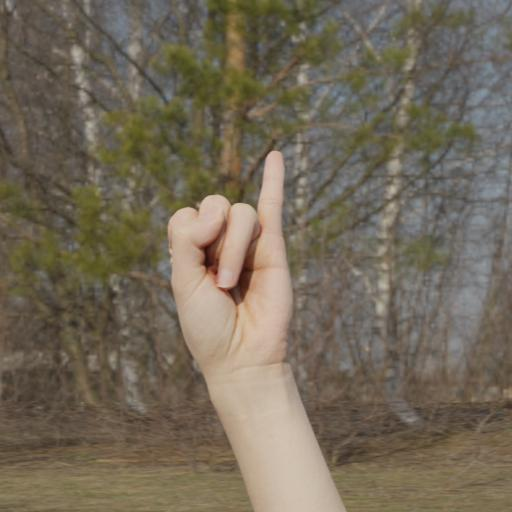I: (152, 135, 320, 487)
